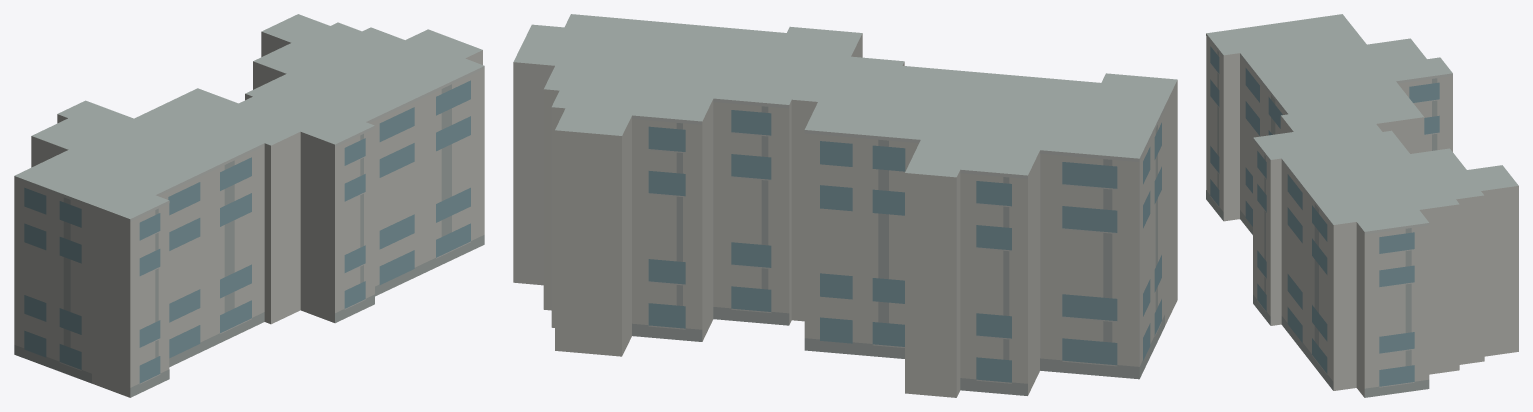
The model's file is residential-60572253-9e6c-466f-a9dc-a0ee767682f2.glb.
3 renders of one model, left to right at view 1: azimuth 30°, elevation 25°; view 2: azimuth 150°, elevation 25°; view 3: azimuth 270°, elevation 25°, orthographic. The views are drawn at different scales.
Parts seen in each view (by area): view 1: residential-60572253-9e6c-466f-a9dc-a0ee767682f2.tmp; view 2: residential-60572253-9e6c-466f-a9dc-a0ee767682f2.tmp; view 3: residential-60572253-9e6c-466f-a9dc-a0ee767682f2.tmp.
Boxes of the visible parts, x1=… form: residential-60572253-9e6c-466f-a9dc-a0ee767682f2.tmp: x1=14, y1=14, x2=484, y2=397; residential-60572253-9e6c-466f-a9dc-a0ee767682f2.tmp: x1=513, y1=14, x2=1177, y2=397; residential-60572253-9e6c-466f-a9dc-a0ee767682f2.tmp: x1=1206, y1=14, x2=1518, y2=397.
Size of the model in its own units: 42.93 by 15.25 by 26.03.
